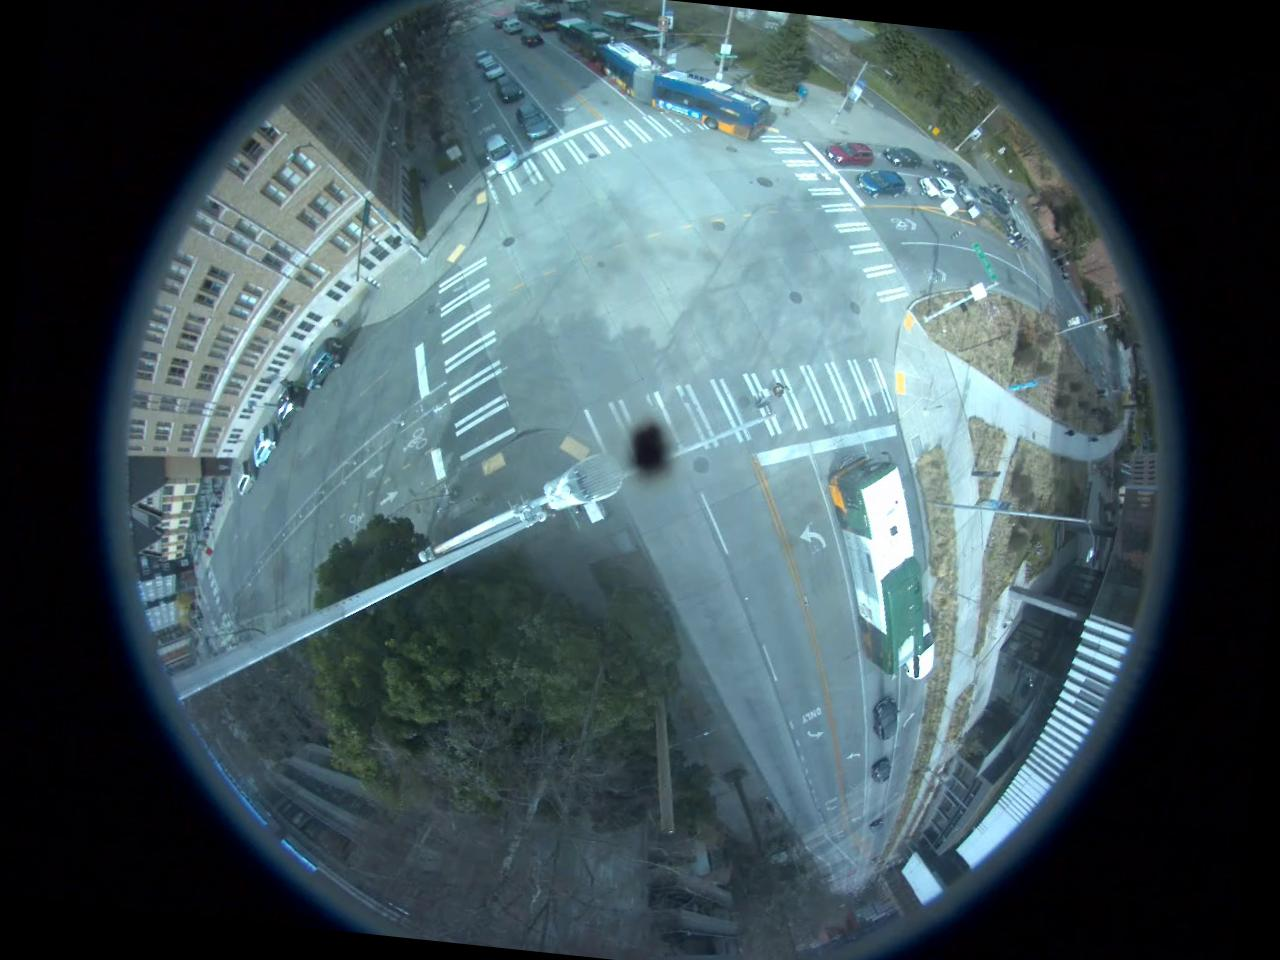bus: (814, 455, 935, 668), (594, 42, 776, 139), (556, 19, 613, 58), (512, 0, 564, 28)
car: (906, 622, 938, 684), (308, 335, 342, 393), (481, 131, 521, 175), (272, 384, 305, 434), (822, 140, 875, 170), (516, 104, 555, 143), (857, 166, 904, 198), (871, 693, 901, 739), (252, 423, 278, 470), (920, 171, 959, 201), (881, 144, 926, 170), (487, 74, 528, 102), (954, 183, 995, 209), (235, 460, 261, 500), (934, 156, 971, 183), (478, 57, 507, 80), (519, 28, 547, 50), (872, 754, 892, 783)
person: (768, 379, 792, 404), (328, 316, 352, 334)
